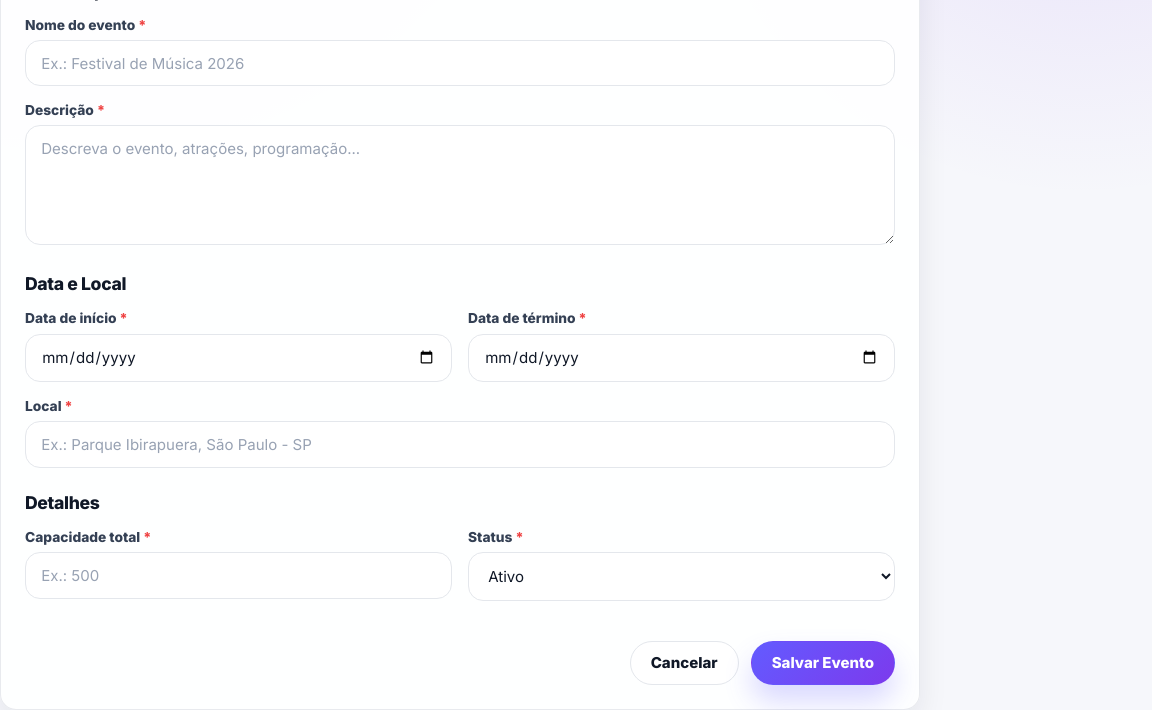
Test: Create event page › bloqueia submit inválido e mostra validações de criação
The image size is (1152, 710).
(page scrolled)
Click the button "Salvar Evento": (823,663) [751,641,895,685]
(page scrolled)
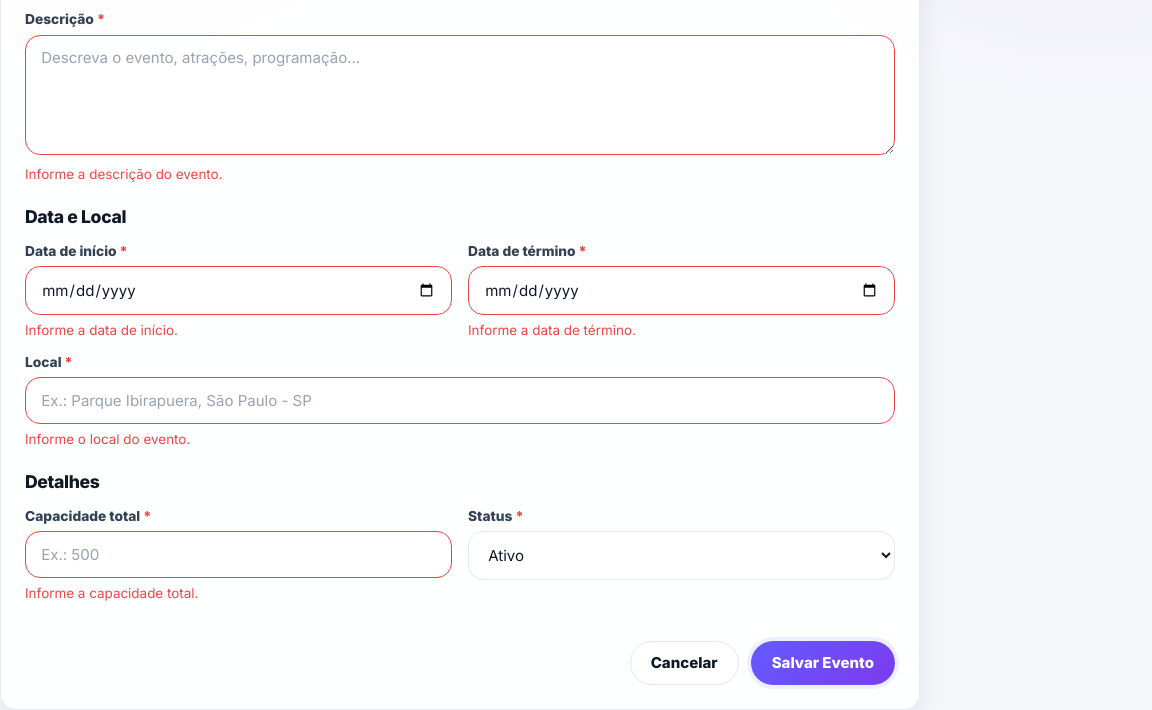
Result: the text "Informe a descrição do evento." is shown at [25,166,222,182]
Result: the text "Informe a data de início." is shown at [25,322,178,338]
Result: the text "Informe a data de término." is shown at [468,322,636,338]
